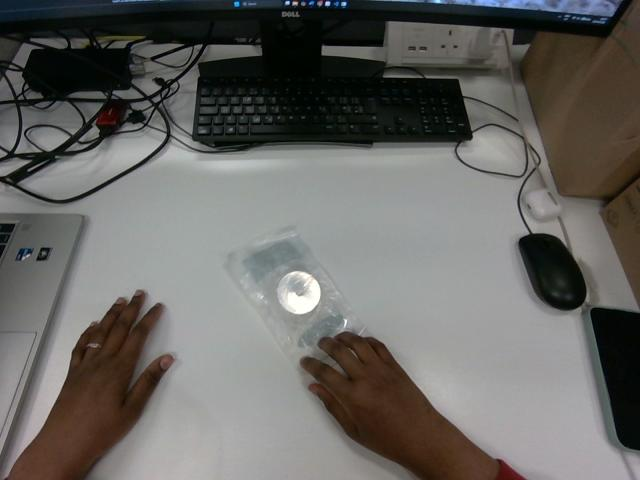gallipot: (226, 228, 364, 364)
